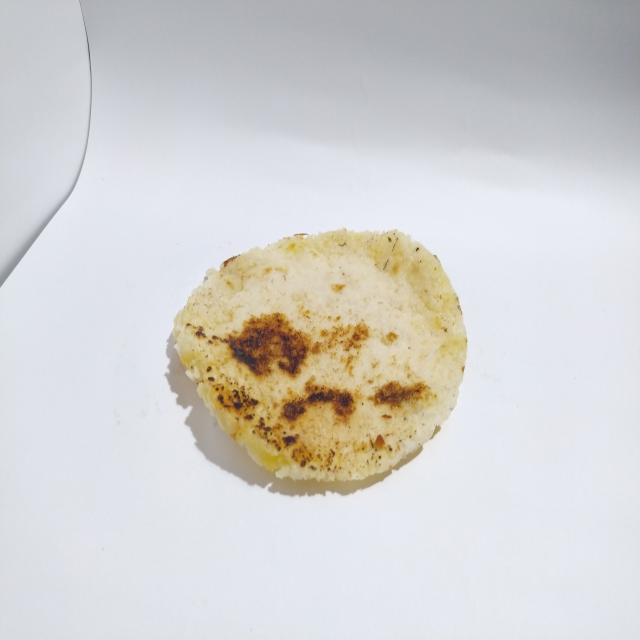Food: (163, 216, 474, 504)
